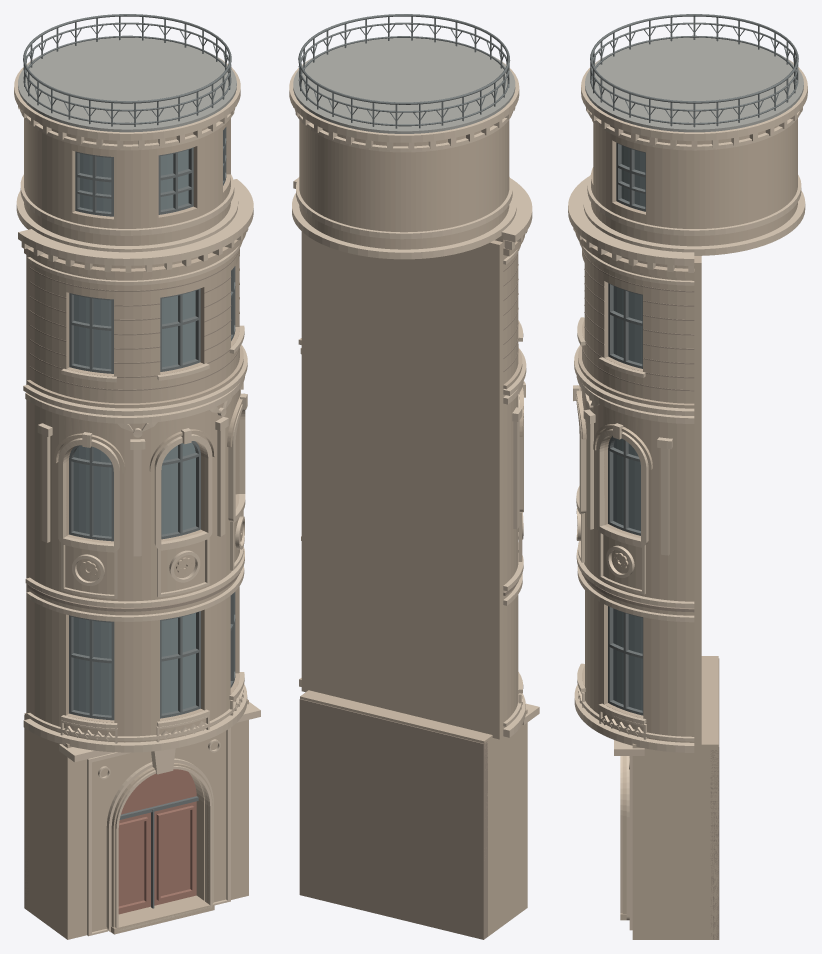
The model's file is huangpu-mitsubishi-trading-house-round-corner-raw.glb.
The picture shows the model from 3 angles, left to right: view 1: azimuth 30°, elevation 25°; view 2: azimuth 150°, elevation 25°; view 3: azimuth 270°, elevation 25°; orthographic projection.
Parts seen in each view (by area): view 1: 广东路102号三菱洋行西南圆塔与拱门; view 2: 广东路102号三菱洋行西南圆塔与拱门; view 3: 广东路102号三菱洋行西南圆塔与拱门.
Part boxes in pixels (bbox=[...]): 广东路102号三菱洋行西南圆塔与拱门: bbox=[14, 14, 260, 939]; 广东路102号三菱洋行西南圆塔与拱门: bbox=[289, 14, 539, 939]; 广东路102号三菱洋行西南圆塔与拱门: bbox=[568, 14, 807, 939].
Bounding box in the file's own units: 5.88 × 21.52 × 5.58.
